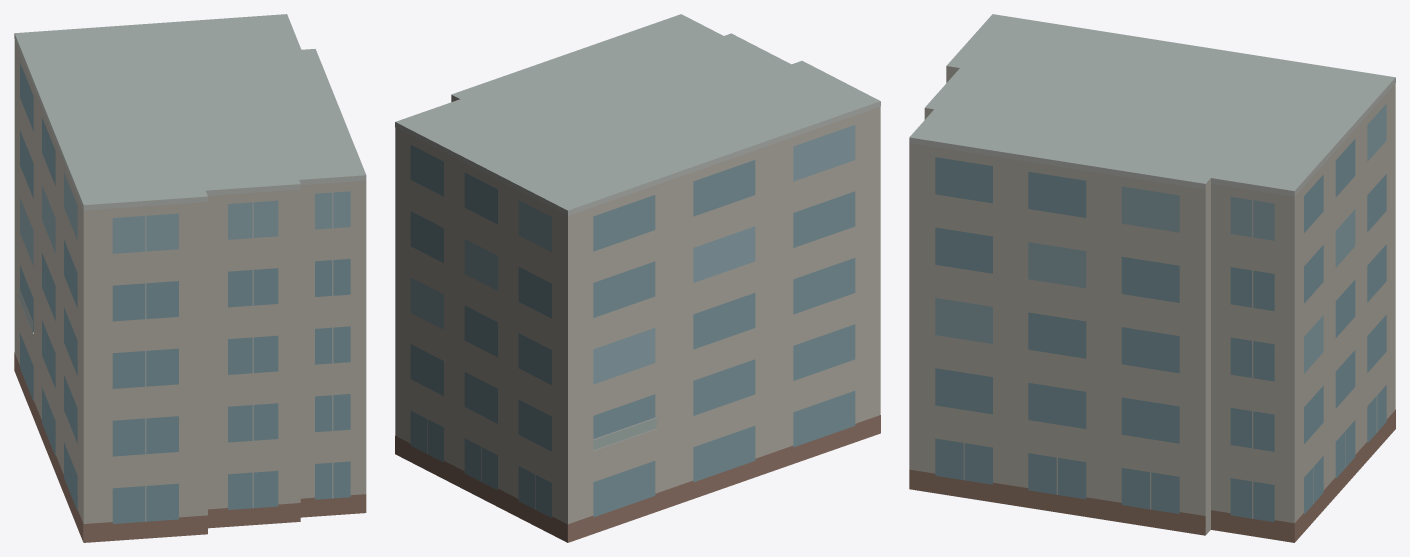
The model's file is survey-upis-33010262.glb.
3 views of the same model, side by side, from view 1: azimuth 30°, elevation 25°; view 2: azimuth 150°, elevation 25°; view 3: azimuth 270°, elevation 25° (orthographic). The views are drawn at different scales.
Parts seen in each view (by area): view 1: survey-upis-33010262.tmp; view 2: survey-upis-33010262.tmp; view 3: survey-upis-33010262.tmp.
Boxes of the visible parts, bbox=[...] form: survey-upis-33010262.tmp: bbox=[14, 14, 366, 542]; survey-upis-33010262.tmp: bbox=[395, 14, 880, 542]; survey-upis-33010262.tmp: bbox=[909, 14, 1395, 542].
Bounding box in the file's own units: 16.48 × 15.25 × 19.13.
